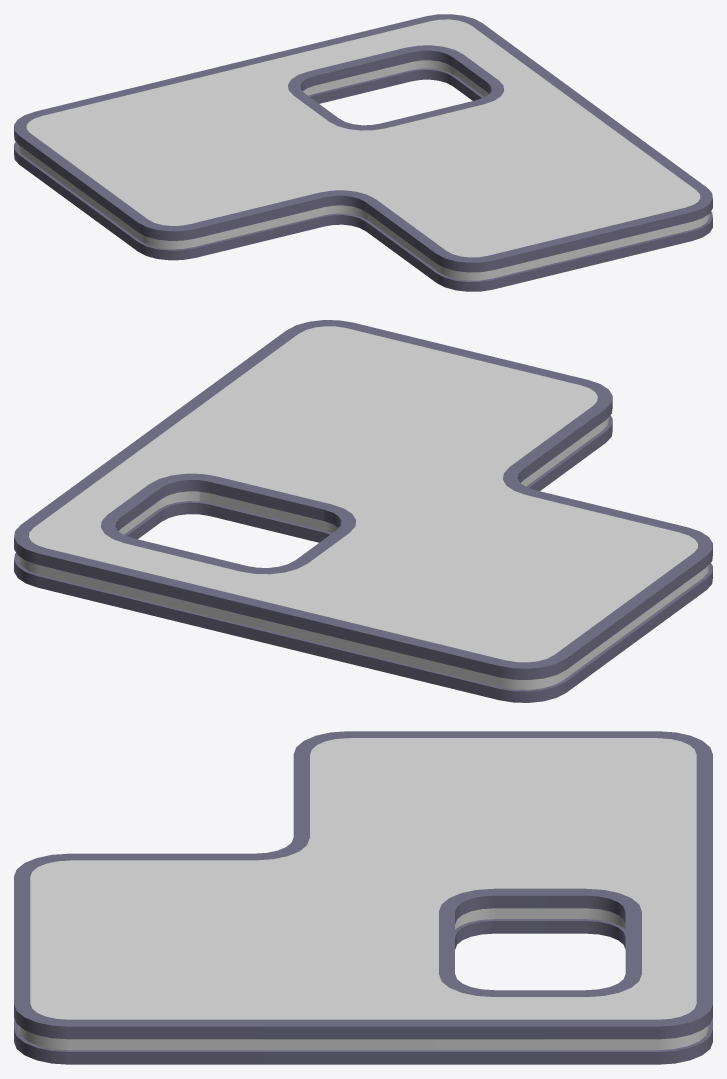
Rendered from env_undergroundstation_concreteplatform03.fbx.
The picture shows the model from 3 angles, top to bottom: view 1: azimuth 30°, elevation 25°; view 2: azimuth 150°, elevation 25°; view 3: azimuth 270°, elevation 25°; orthographic projection. The views are drawn at different scales.
Parts seen in each view (by area): view 1: env_undergroundstation_concreteplatform03; view 2: env_undergroundstation_concreteplatform03; view 3: env_undergroundstation_concreteplatform03.
Part boxes in pixels (x1=…): env_undergroundstation_concreteplatform03: x1=14, y1=14, x2=712, y2=291; env_undergroundstation_concreteplatform03: x1=14, y1=320, x2=712, y2=702; env_undergroundstation_concreteplatform03: x1=14, y1=731, x2=712, y2=1064.
Bounding box in the file's own units: 200 × 12 × 200.
